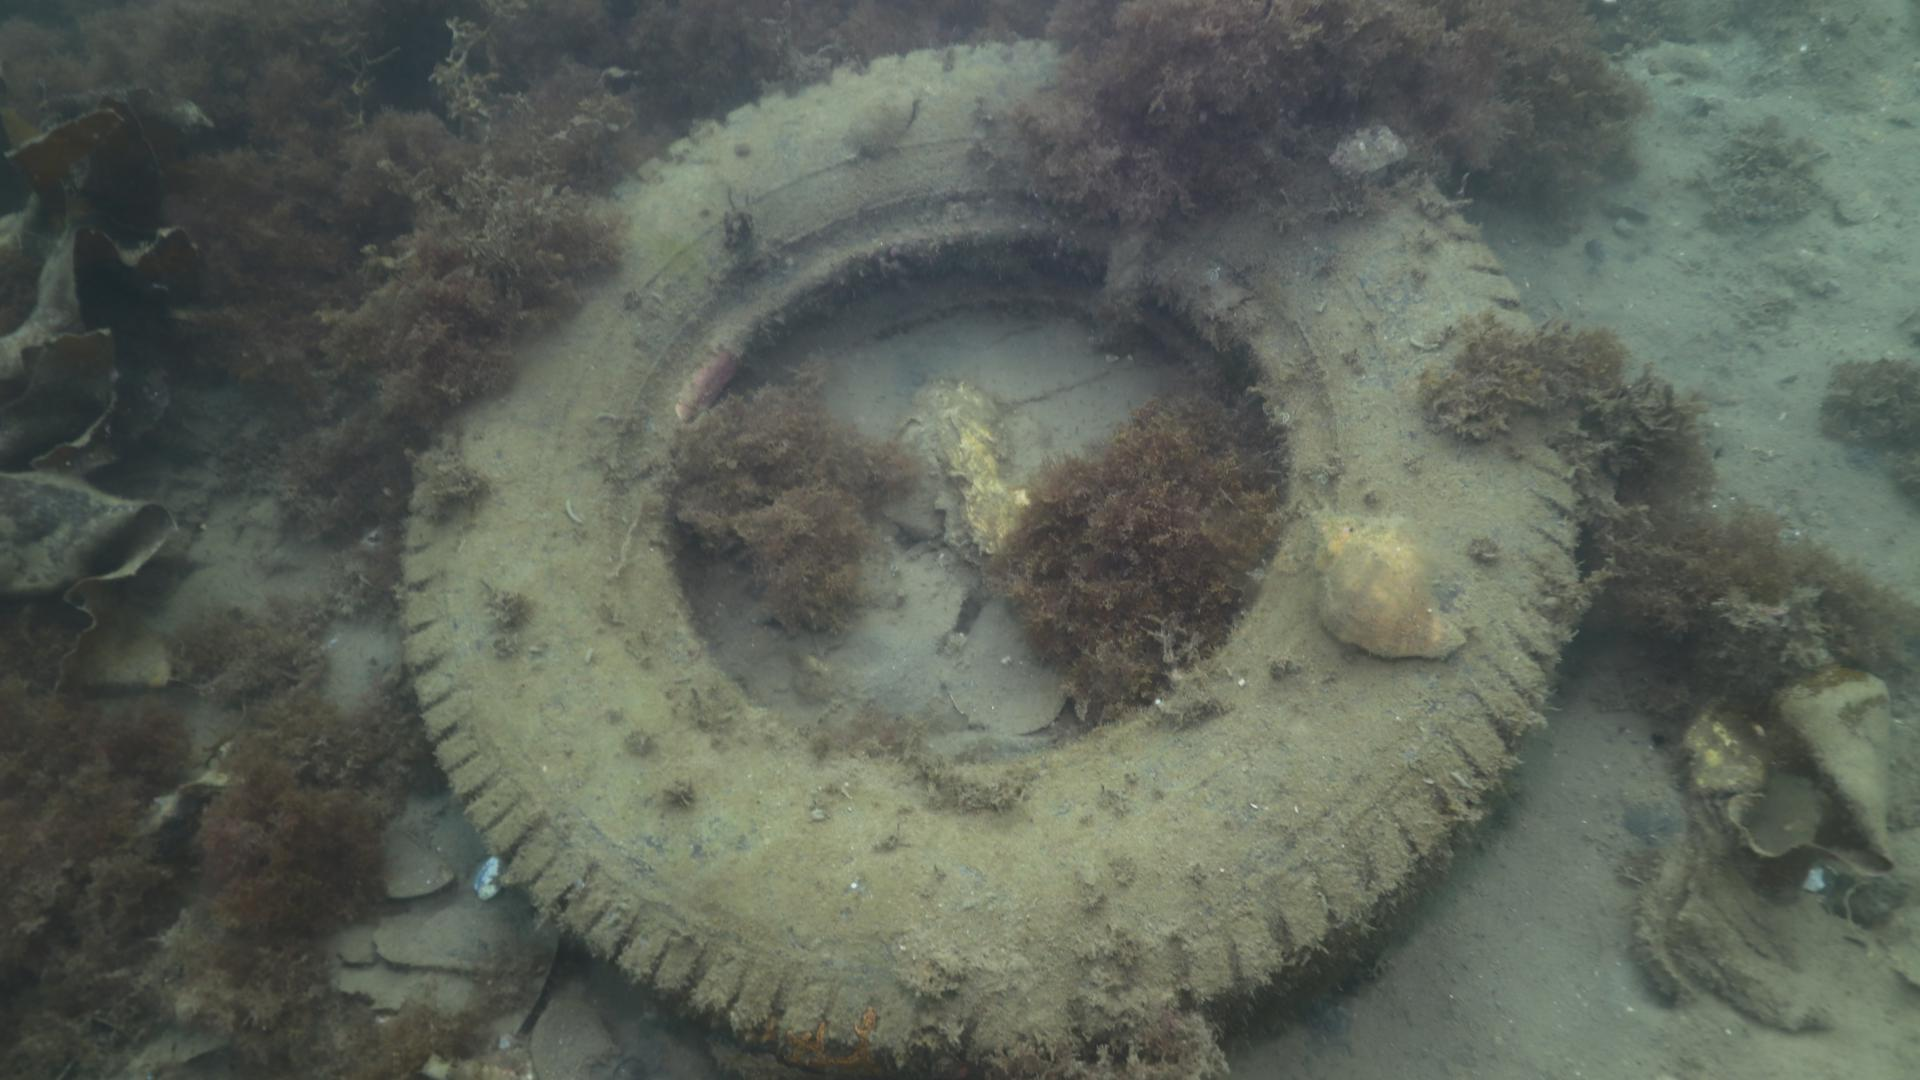tire: (400, 32, 1578, 1080)
